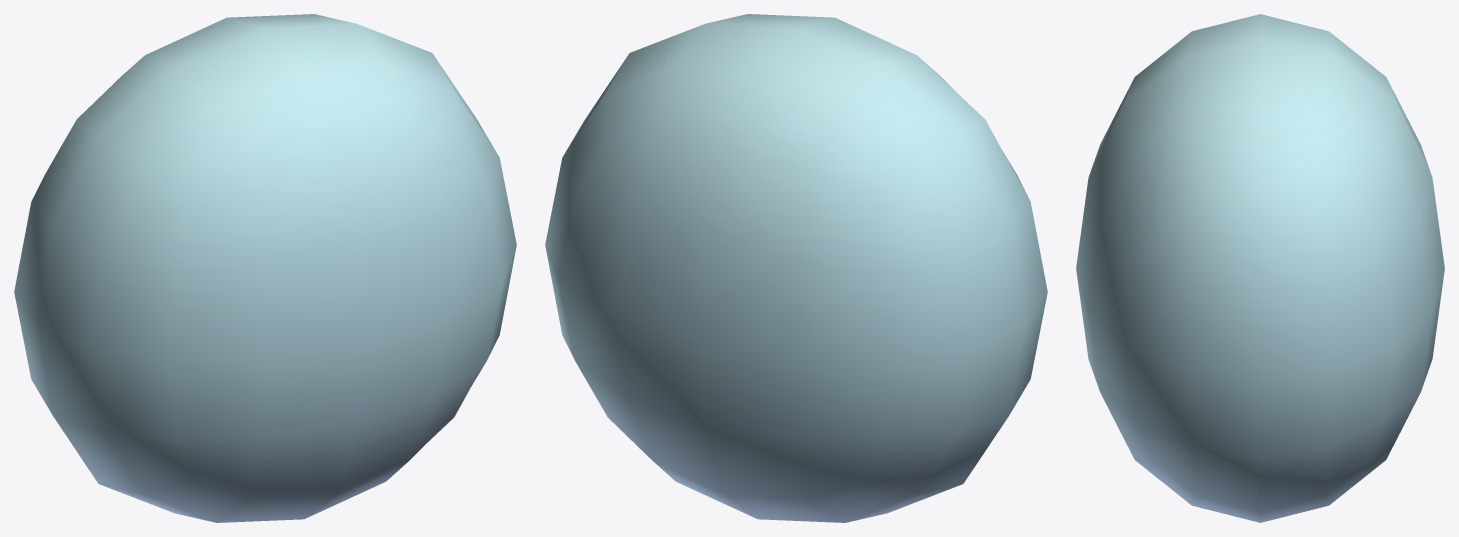
File: Blob_Blue.fbx
3 renders of one model, left to right at view 1: azimuth 30°, elevation 25°; view 2: azimuth 150°, elevation 25°; view 3: azimuth 270°, elevation 25°, orthographic. The views are drawn at different scales.
Parts seen in each view (by area): view 1: Blob_Blue; view 2: Blob_Blue; view 3: Blob_Blue.
Part boxes in pixels (box(x1,y1,x2,y2)): Blob_Blue: box(14, 14, 516, 522); Blob_Blue: box(545, 14, 1047, 522); Blob_Blue: box(1076, 14, 1444, 522).
Bounding box in the file's own units: 1.11 × 1.11 × 0.8174.
